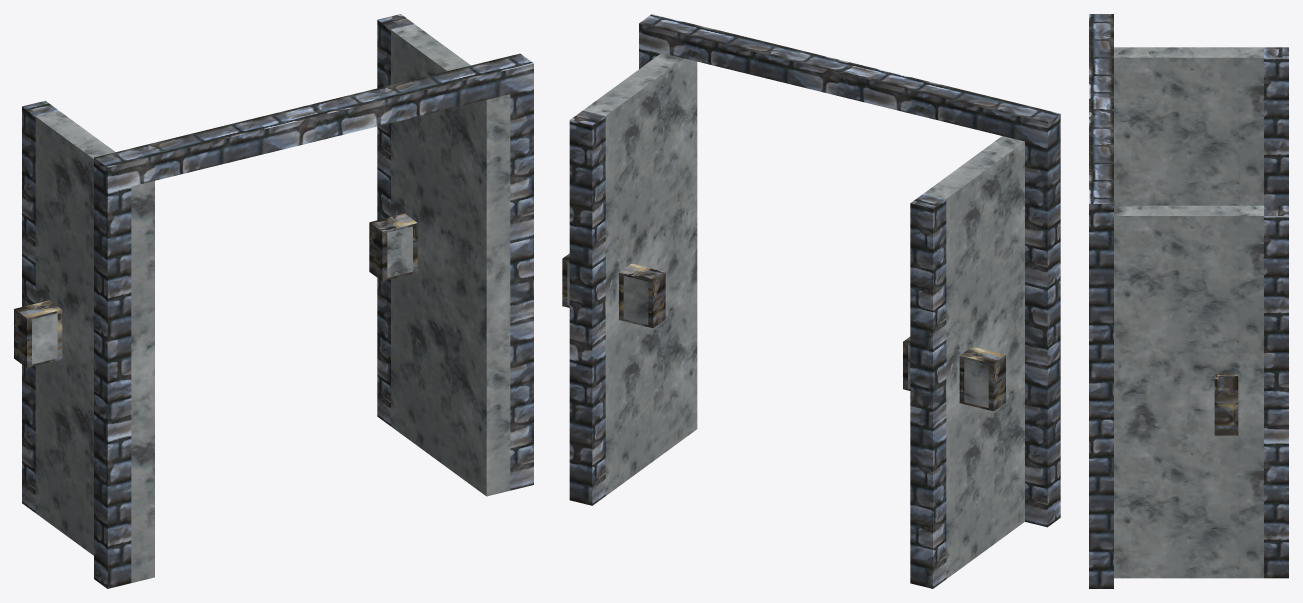
File: UnlockedDoorOpened.obj
The picture shows the model from 3 angles, left to right: view 1: azimuth 30°, elevation 25°; view 2: azimuth 150°, elevation 25°; view 3: azimuth 270°, elevation 25°; orthographic projection. The views are drawn at different scales.
Size of the model in its own units: 1.9 by 1.7 by 0.8.
4 materials, 4 textured.
